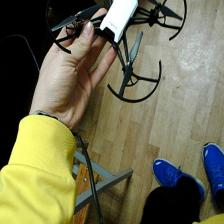drone: (40, 0, 194, 109)
